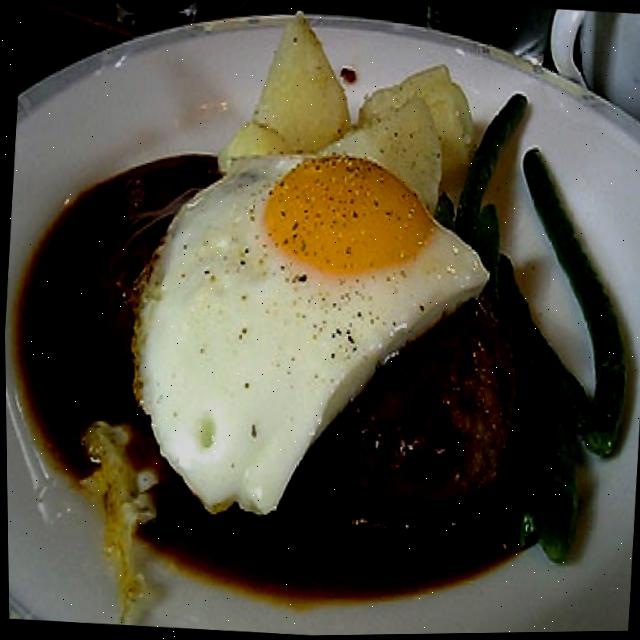鸡蛋料理: (123, 119, 497, 517)
